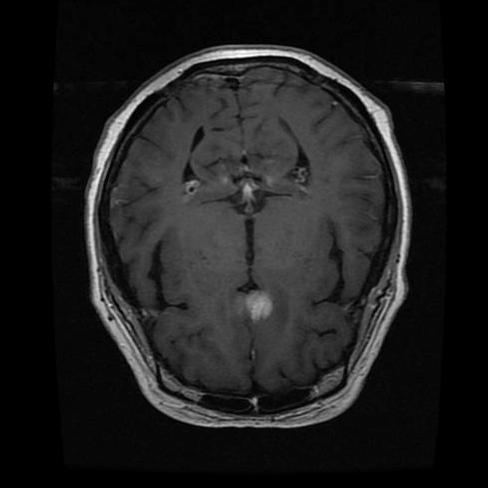Tumour-Meningioma: (216, 279, 284, 333)
